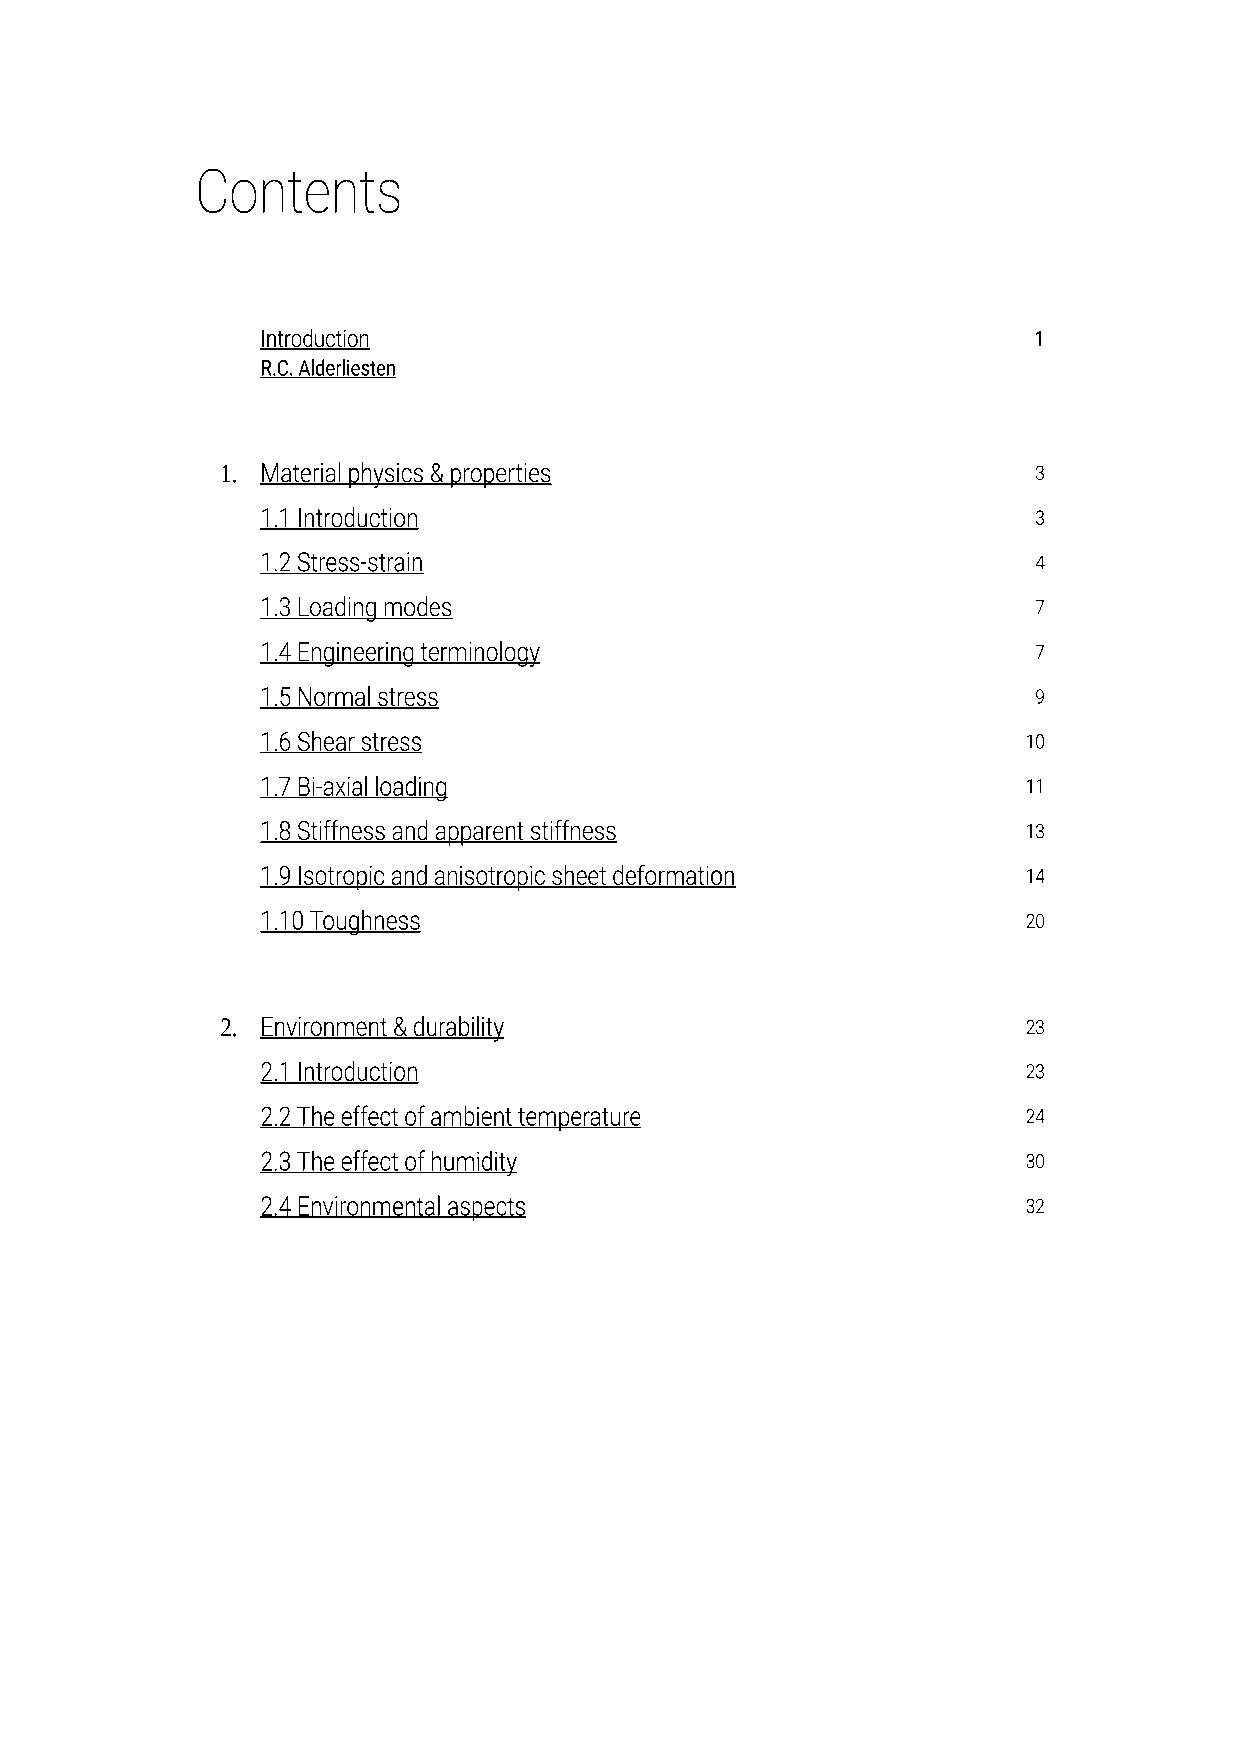TOC_chapter: (258, 863, 739, 892), (213, 458, 556, 488), (258, 1104, 640, 1131), (258, 819, 617, 845), (217, 1013, 505, 1043), (259, 639, 541, 668), (259, 1193, 526, 1221), (259, 1149, 518, 1176), (258, 595, 456, 623), (258, 774, 448, 801), (258, 682, 439, 710), (256, 907, 425, 935), (258, 727, 423, 756), (258, 548, 427, 574), (259, 1059, 421, 1086), (258, 506, 420, 531), (256, 356, 397, 378), (255, 325, 373, 349)
TOC_pagenumber: (1024, 819, 1045, 841), (1025, 1059, 1045, 1082), (1023, 1194, 1045, 1215), (1024, 1149, 1045, 1169), (1023, 911, 1045, 930), (1033, 505, 1049, 530), (1031, 552, 1051, 570), (1031, 325, 1047, 348), (1024, 866, 1047, 882), (1027, 1017, 1045, 1036), (1025, 731, 1045, 749), (1024, 1108, 1045, 1125), (1027, 777, 1045, 794), (1032, 684, 1048, 705), (1032, 460, 1044, 484), (1031, 596, 1045, 613), (1033, 641, 1045, 662)
chapter: (189, 162, 412, 217)
